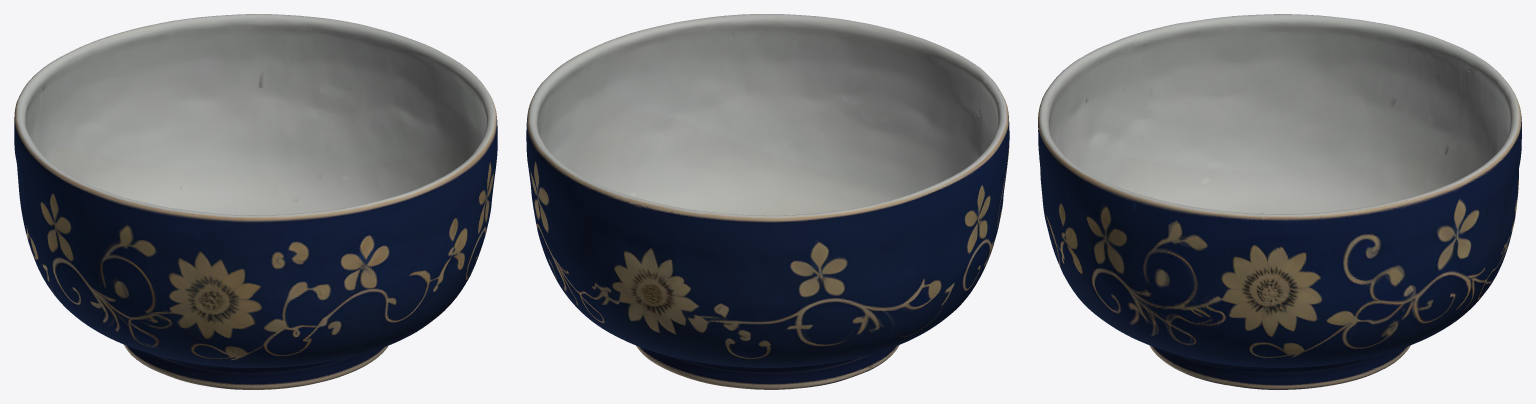
File: romantex_8.glb
3 views of the same model, side by side, from view 1: azimuth 30°, elevation 25°; view 2: azimuth 150°, elevation 25°; view 3: azimuth 270°, elevation 25° (orthographic).
Visible parts, largest first — view 1: texture_v130_hdr_21w_pbr_dino_11w.001; view 2: texture_v130_hdr_21w_pbr_dino_11w.001; view 3: texture_v130_hdr_21w_pbr_dino_11w.001.
Boxes of the visible parts, x1,y1,x2,y2 form: texture_v130_hdr_21w_pbr_dino_11w.001: [14, 14, 497, 389]; texture_v130_hdr_21w_pbr_dino_11w.001: [526, 14, 1009, 389]; texture_v130_hdr_21w_pbr_dino_11w.001: [1038, 14, 1521, 389].
Size of the model in its own units: 2 by 1 by 2.
Materials: 1 (1 with a texture image).
